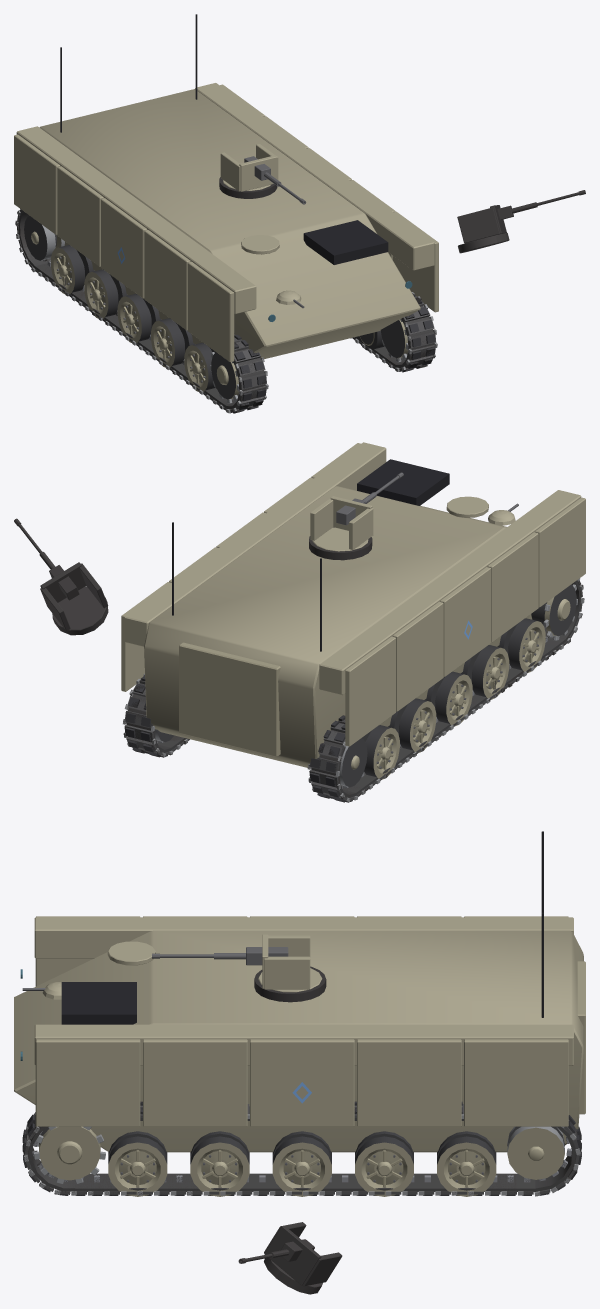
Rendered from apc__type_73.glb.
3 renders of one model, top to bottom at view 1: azimuth 30°, elevation 25°; view 2: azimuth 150°, elevation 25°; view 3: azimuth 270°, elevation 25°, orthographic. The views are drawn at different scales.
Parts seen in each view (by area): view 1: Hull_Mesh, Wreck, Track_L_Mesh, Track_R_Mesh, Turret_Mesh, Wheel_L2_Mesh, Wheel_L3_Mesh, Wheel_L1_Mesh, Wheel_L0_Mesh, Wheel_L4_Mesh, Idler_L_Mesh, Sprocket_L_Mesh (+1 smaller); view 2: Hull_Mesh, Wreck, Track_L_Mesh, Turret_Mesh, Track_R_Mesh, Wheel_L1_Mesh, Wheel_L3_Mesh, Wheel_L2_Mesh, Wheel_L4_Mesh, Wheel_L0_Mesh, Sprocket_L_Mesh, Idler_L_Mesh (+1 smaller); view 3: Hull_Mesh, Track_R_Mesh, Wreck, Sprocket_R_Mesh, Wheel_R4_Mesh, Wheel_R0_Mesh, Wheel_R3_Mesh, Wheel_R2_Mesh, Wheel_R1_Mesh, Turret_Mesh, Idler_R_Mesh, Gun_Mesh.
Boxes of the visible parts, bbox=[...] form: Hull_Mesh: bbox=[14, 14, 438, 362]; Wreck: bbox=[15, 177, 585, 413]; Track_L_Mesh: bbox=[15, 209, 268, 413]; Track_R_Mesh: bbox=[350, 292, 437, 372]; Turret_Mesh: bbox=[220, 144, 278, 191]; Wheel_L2_Mesh: bbox=[117, 294, 161, 342]; Wheel_L3_Mesh: bbox=[151, 318, 194, 367]; Wheel_L1_Mesh: bbox=[84, 269, 128, 318]; Wheel_L0_Mesh: bbox=[51, 245, 94, 293]; Wheel_L4_Mesh: bbox=[184, 342, 215, 391]; Idler_L_Mesh: bbox=[24, 216, 64, 260]; Sprocket_L_Mesh: bbox=[210, 352, 239, 403]; Hull_Mesh: bbox=[121, 442, 585, 767]; Wreck: bbox=[14, 518, 583, 802]; Track_L_Mesh: bbox=[307, 578, 584, 802]; Turret_Mesh: bbox=[310, 496, 373, 551]; Track_R_Mesh: bbox=[123, 674, 189, 757]; Wheel_L1_Mesh: bbox=[388, 698, 436, 752]; Wheel_L3_Mesh: bbox=[461, 645, 509, 699]; Wheel_L2_Mesh: bbox=[424, 671, 472, 726]; Wheel_L4_Mesh: bbox=[497, 618, 545, 672]; Wheel_L0_Mesh: bbox=[361, 725, 399, 779]; Sprocket_L_Mesh: bbox=[528, 584, 577, 640]; Idler_L_Mesh: bbox=[339, 738, 367, 787]; Hull_Mesh: bbox=[14, 831, 585, 1152]; Track_R_Mesh: bbox=[22, 1101, 581, 1196]; Wreck: bbox=[22, 966, 577, 1294]; Sprocket_R_Mesh: bbox=[33, 1126, 105, 1183]; Wheel_R4_Mesh: bbox=[108, 1131, 167, 1196]; Wheel_R0_Mesh: bbox=[437, 1131, 496, 1196]; Wheel_R3_Mesh: bbox=[190, 1131, 249, 1196]; Wheel_R2_Mesh: bbox=[272, 1131, 331, 1196]; Wheel_R1_Mesh: bbox=[355, 1131, 413, 1196]; Turret_Mesh: bbox=[258, 934, 322, 992]; Idler_R_Mesh: bbox=[507, 1126, 564, 1179]; Gun_Mesh: bbox=[152, 947, 288, 965].
Size of what is drawn, in the model's own units: 6.24 by 2.93 by 5.71.
